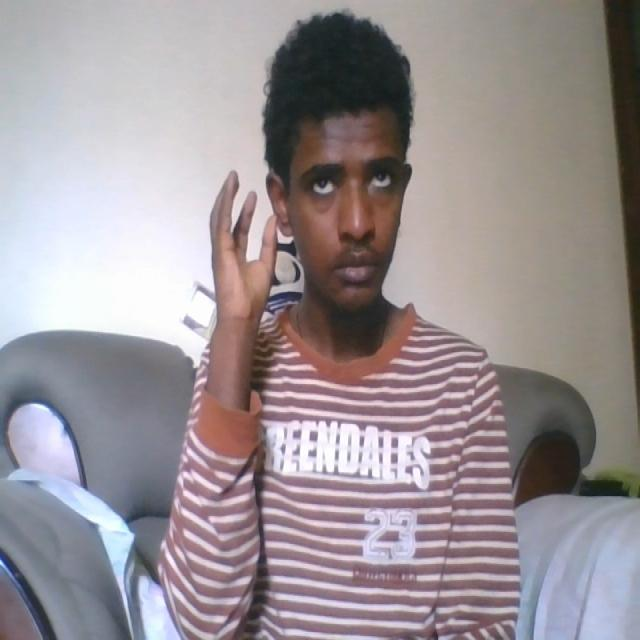menaded: (201, 164, 283, 322)
